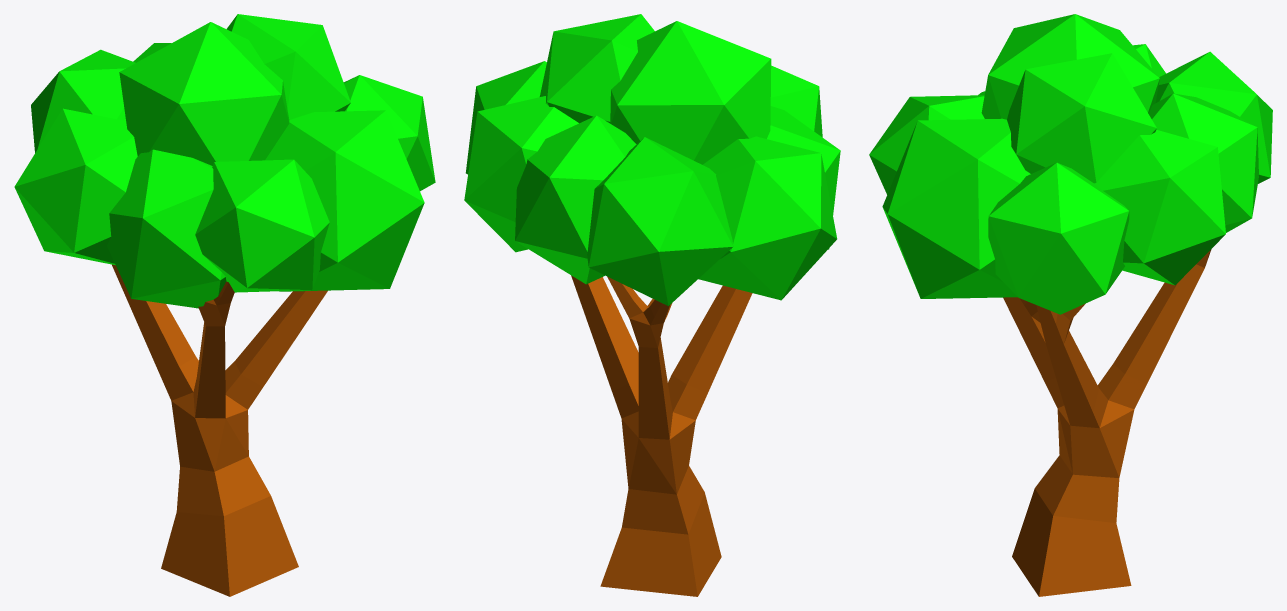
File: low-poly-tree.glb
3 renders of one model, left to right at view 1: azimuth 30°, elevation 25°; view 2: azimuth 150°, elevation 25°; view 3: azimuth 270°, elevation 25°, orthographic.
Visible parts, largest first — view 1: Cube; view 2: Cube; view 3: Cube.
Boxes of the visible parts, x1,y1,x2,y2 form: Cube: (14,14,435,596); Cube: (464,14,840,596); Cube: (869,14,1272,596).
Bounding box in the file's own units: 1.85 × 2.6 × 1.73.
